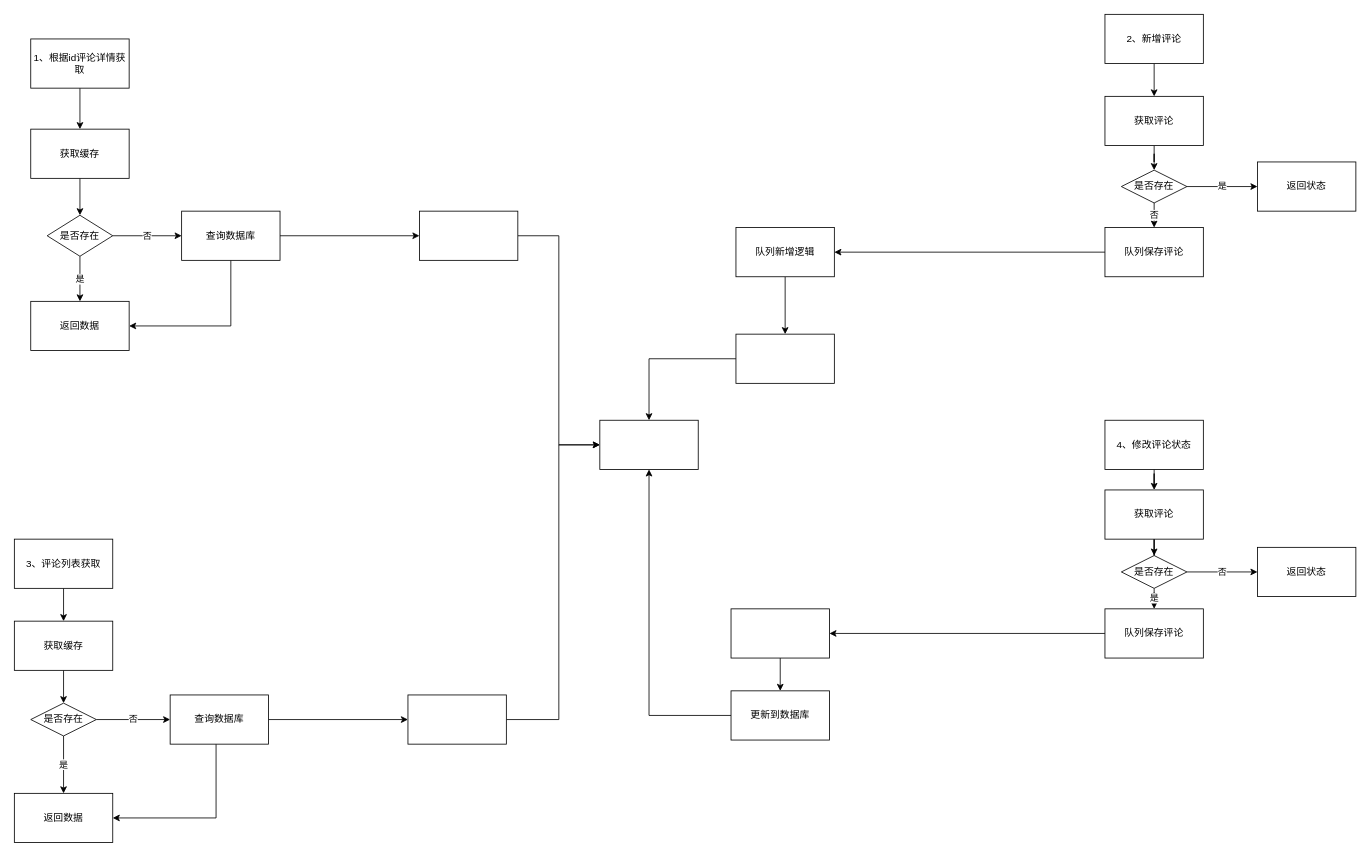
Some shapes in this 1370 by 857 pixel diagram are drawn without their labels. The centre of each missing label's shape, as x and y in pixels:
"发送到队列缓存" belongs at pixel 468 235.
"发送队列缓存" belongs at pixel 456 719.
"新增到数据库" belongs at pixel 784 358.
"缓存评论" belongs at pixel 648 444.
"队列更新逻辑" belongs at pixel 779 633.
